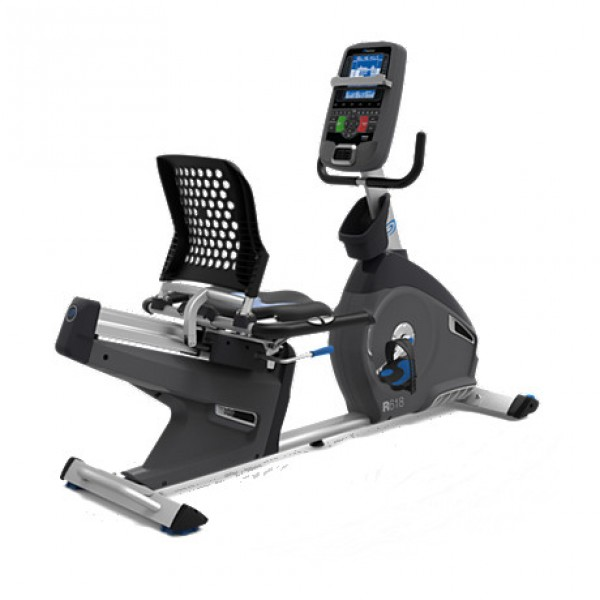gym_bike: (40, 29, 563, 547)
